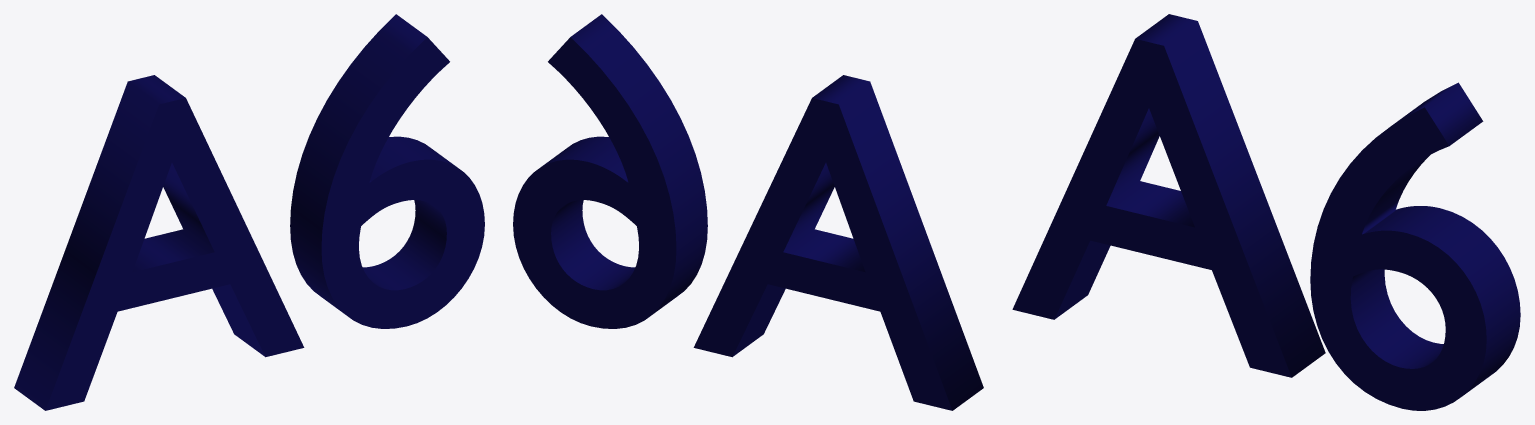
The picture shows the model from 3 angles, left to right: view 1: azimuth 30°, elevation 25°; view 2: azimuth 150°, elevation 25°; view 3: azimuth 330°, elevation 25°; orthographic projection. The views are drawn at different scales.
Parts seen in each view (by area): view 1: Text; view 2: Text; view 3: Text.
Boxes of the visible parts, x1,y1,x2,y2 form: Text: (14, 14, 484, 410); Text: (513, 14, 983, 410); Text: (1012, 14, 1520, 410).
Bounding box in the file's own units: 113 × 70 × 14.
